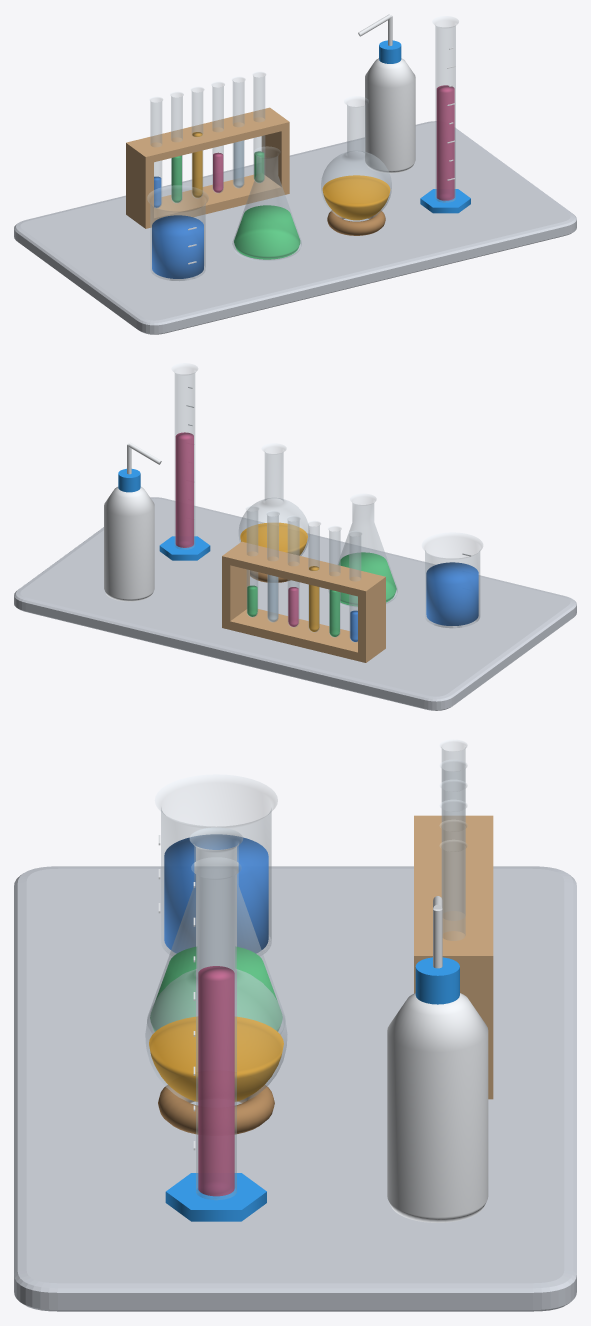
Rendered from sch-013.glb.
The picture shows the model from 3 angles, top to bottom: view 1: azimuth 30°, elevation 25°; view 2: azimuth 150°, elevation 25°; view 3: azimuth 270°, elevation 25°; orthographic projection. The views are drawn at different scales.
Visible parts, largest first — view 1: lab_grey, lab_glass, beech, white, liquid_green, liquid_blue, liquid_amber, liquid_pink, plastic_blue, cork, liquid_water; view 2: lab_grey, lab_glass, beech, white, liquid_blue, liquid_pink, liquid_amber, liquid_green, plastic_blue, liquid_water; view 3: lab_grey, lab_glass, white, beech, liquid_pink, liquid_blue, liquid_amber, liquid_green, plastic_blue, cork.
Part boxes in pixels (x1,y1,x2,y2): lab_grey: (14,121,576,334); lab_glass: (147,16,458,280); beech: (126,107,289,228); white: (188,14,455,264); liquid_green: (171,151,300,259); liquid_blue: (152,176,203,278); liquid_amber: (192,132,390,220); liquid_pink: (213,85,454,200); plastic_blue: (379,40,470,213); cork: (327,210,385,235); liquid_water: (233,140,243,187); lab_grey: (14,497,576,710); lab_glass: (172,363,482,642); beech: (222,541,385,662); white: (104,387,471,601); liquid_blue: (350,562,478,641); liquid_pink: (175,432,298,626); liquid_amber: (240,522,319,631); liquid_green: (247,552,396,636); plastic_blue: (118,468,210,560); liquid_water: (268,574,277,621); lab_grey: (14,866,576,1311); lab_glass: (145,740,467,1199); white: (158,835,488,1222); beech: (414,815,493,1099); liquid_pink: (198,966,234,1196); liquid_blue: (164,834,268,953); liquid_amber: (149,1016,283,1101); liquid_green: (150,946,282,1031); plastic_blue: (165,957,459,1221); cork: (158,1085,274,1134).
Bounding box in the file's own units: 0.636 × 0.272 × 0.356.
